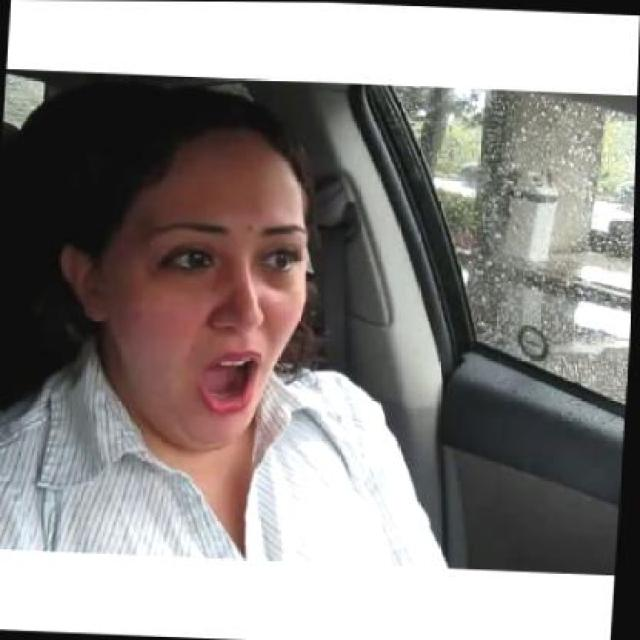inattentif: (44, 77, 322, 457)
